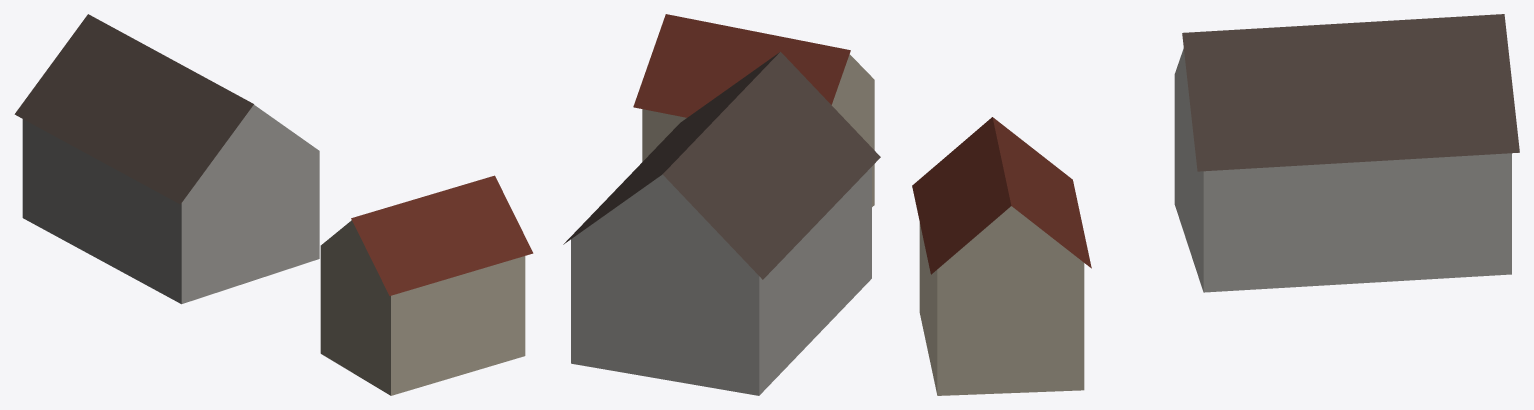
The picture shows the model from 3 angles, left to right: view 1: azimuth 30°, elevation 25°; view 2: azimuth 150°, elevation 25°; view 3: azimuth 270°, elevation 25°; orthographic projection. The views are drawn at different scales.
Parts seen in each view (by area): view 1: buildings; view 2: buildings; view 3: buildings.
Part boxes in pixels (x1,y1,x2,y2): buildings: (14,14,533,395); buildings: (563,14,880,395); buildings: (912,14,1519,395).
Size of the model in its own units: 16.98 by 12.36 by 25.84.
